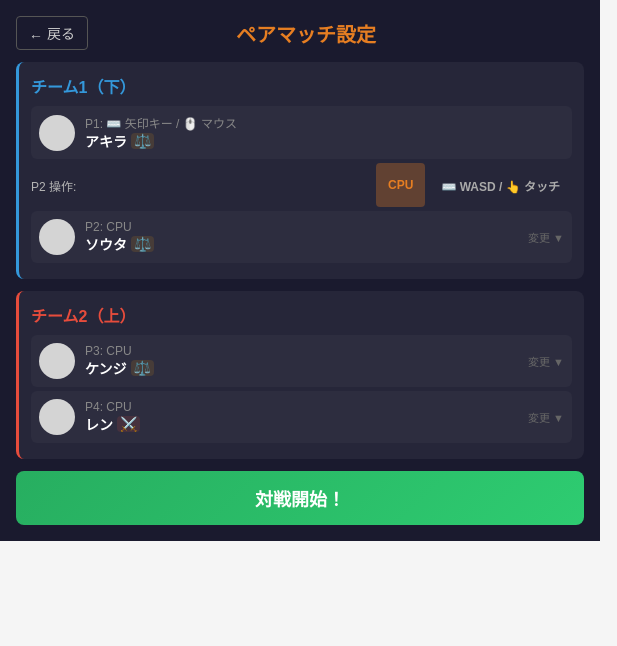
Test: TeamSetupScreen › キャラクター選択 › P2 スロットをクリックすると選択パネルが展開される
What coordinates should you click on to do the following:
click the button with test id "slot-p2"
I would click on:
 (57, 237)
Its box is [31,211,572,263].
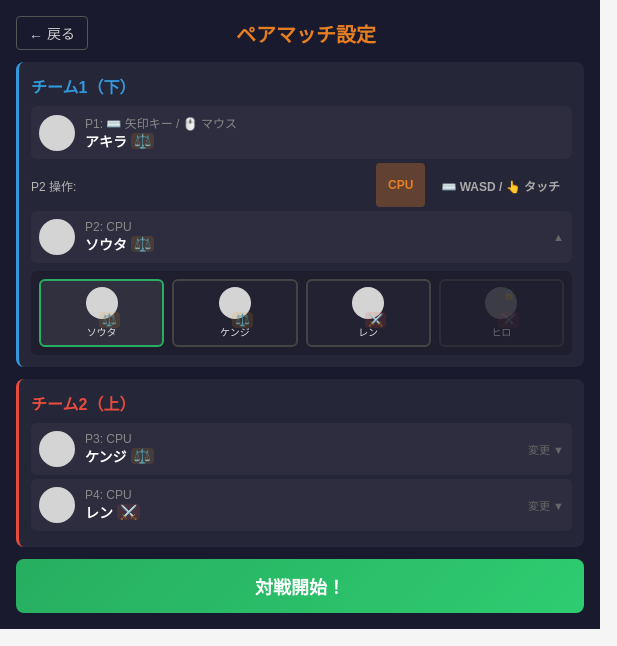
expect the element with test id "character-grid-p2" is shown: met, box [31,271,572,355]
